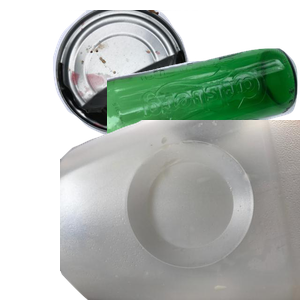glass: (107, 46, 300, 197)
metal: (50, 10, 262, 140)
plastic: (60, 120, 300, 300)
trash: (92, 158, 277, 300)
